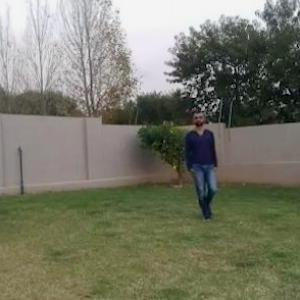follow: (190, 112, 216, 216)
